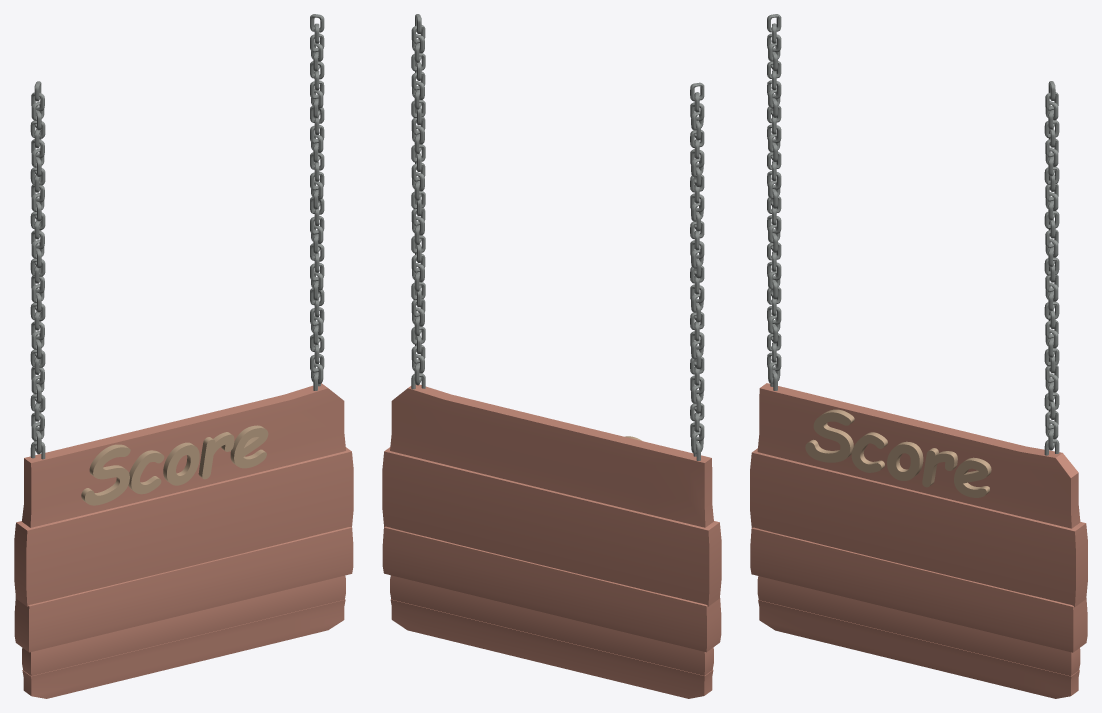
Rendered from ScoreSign.fbx.
3 views of the same model, side by side, from view 1: azimuth 30°, elevation 25°; view 2: azimuth 150°, elevation 25°; view 3: azimuth 330°, elevation 25° (orthographic).
Visible parts, largest first — view 1: Cube.017; view 2: Cube.017; view 3: Cube.017.
Boxes of the visible parts, <box> form: Cube.017: <box>14,14,353,698</box>; Cube.017: <box>382,14,721,698</box>; Cube.017: <box>750,14,1087,698</box>.
Size of the model in its own units: 345 by 620 by 26.67.
